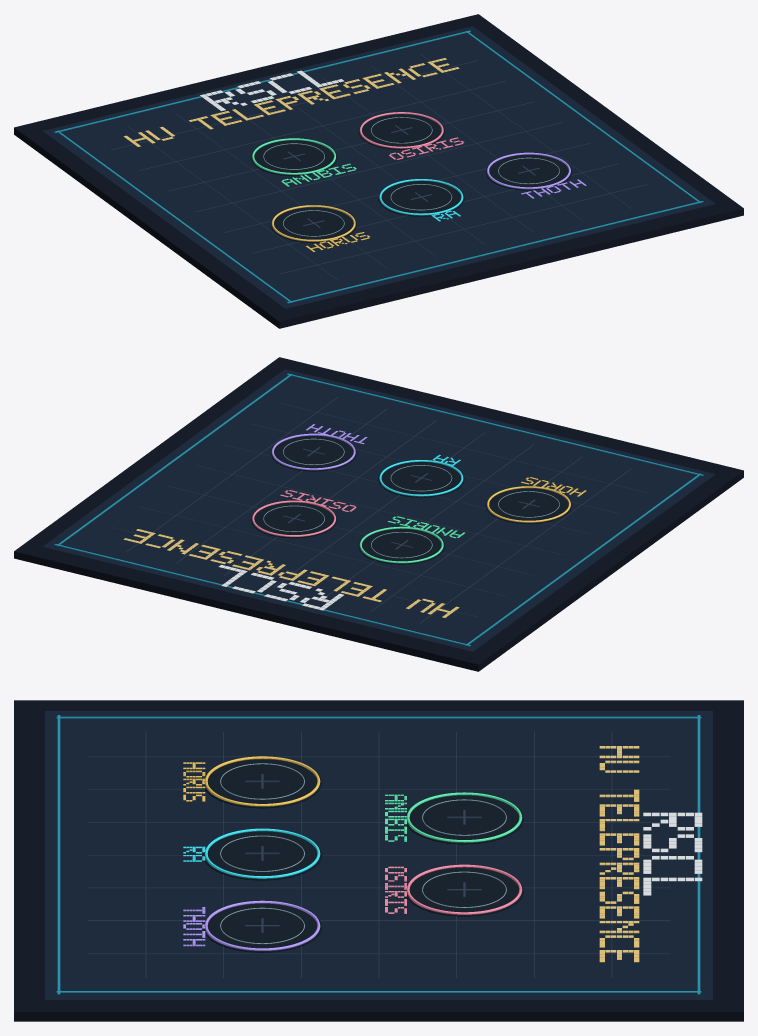
The model's file is festival_stage.dae.
The picture shows the model from 3 angles, top to bottom: view 1: azimuth 30°, elevation 25°; view 2: azimuth 150°, elevation 25°; view 3: azimuth 270°, elevation 25°; orthographic projection. The views are drawn at different scales.
Visible parts, largest first — view 1: stage, floor, pad_dark, grid, accent, gold, white, silver, pad_Anubis, pad_Osiris, pad_Horus, pad_Thoth (+1 smaller); view 2: stage, floor, pad_dark, grid, accent, gold, white, silver, pad_Anubis, pad_Osiris, pad_Horus, pad_Thoth (+1 smaller); view 3: stage, floor, pad_dark, grid, accent, gold, white, silver, pad_Anubis, pad_Horus, pad_Osiris, pad_Thoth (+1 smaller).
Part boxes in pixels (x1,y1,x2,y2): stage: (42, 26, 715, 309); floor: (14, 14, 743, 328); pad_dark: (250, 114, 572, 242); grid: (111, 54, 647, 280); accent: (54, 30, 703, 303); gold: (123, 58, 459, 146); white: (200, 70, 343, 111); silver: (263, 117, 559, 236); pad_Anubis: (252, 138, 356, 186); pad_Osiris: (359, 112, 464, 159); pad_Horus: (271, 205, 369, 251); pad_Thoth: (487, 152, 586, 198); stage: (42, 369, 715, 652); floor: (14, 357, 743, 671); pad_dark: (250, 435, 572, 564); grid: (110, 397, 646, 623); accent: (54, 373, 703, 646); gold: (123, 529, 459, 617); white: (218, 564, 343, 610); silver: (263, 438, 559, 558); pad_Anubis: (359, 516, 465, 563); pad_Osiris: (252, 490, 356, 536); pad_Horus: (487, 477, 586, 522); pad_Thoth: (271, 424, 367, 470); stage: (45, 711, 712, 1000); floor: (14, 700, 743, 1021); pad_dark: (202, 759, 524, 952); grid: (87, 732, 670, 978); accent: (56, 715, 701, 994); gold: (599, 746, 639, 962); white: (643, 812, 702, 895); silver: (220, 763, 506, 944); pad_Anubis: (385, 792, 522, 842); pad_Horus: (183, 756, 320, 806); pad_Osiris: (385, 864, 522, 914); pad_Thoth: (183, 900, 320, 950).
Size of the model in its own units: 9.5 by 9.4 by 0.192.
